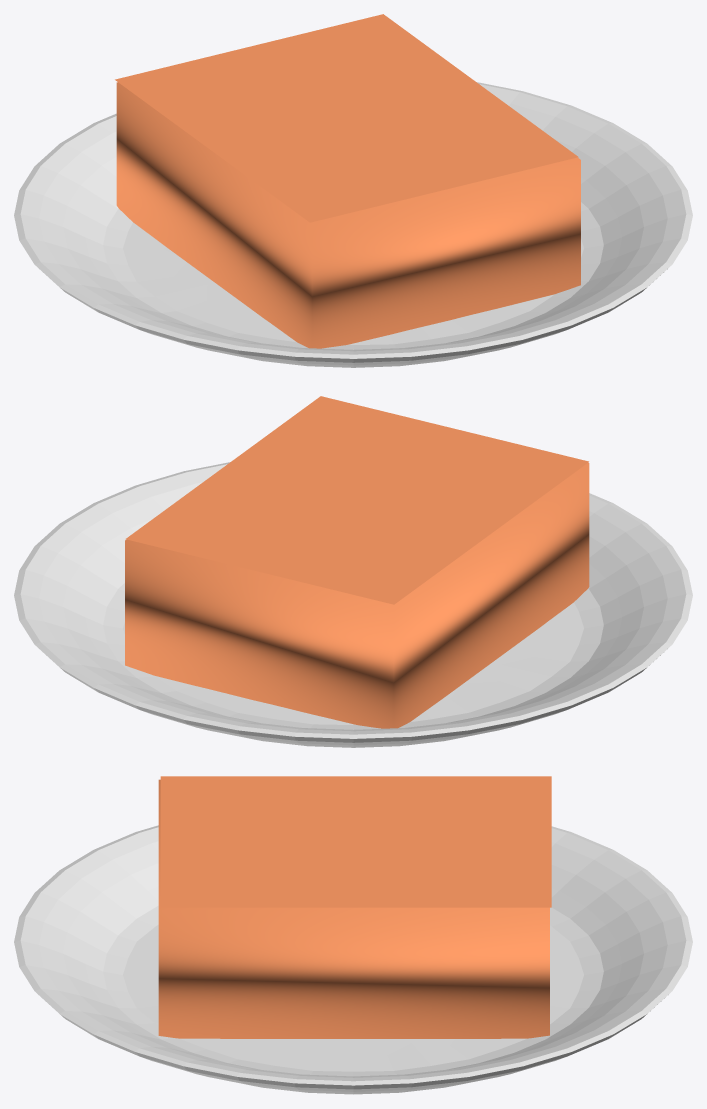
File: kue engkak ketan.fbx
3 renders of one model, top to bottom at view 1: azimuth 30°, elevation 25°; view 2: azimuth 150°, elevation 25°; view 3: azimuth 270°, elevation 25°, orthographic.
Visible parts, largest first — view 1: Cube.002, Cylinder, Cube.001; view 2: Cube.002, Cylinder, Cube.001; view 3: Cylinder, Cube.002, Cube.001.
Part boxes in pixels (left/top/right/bottom): Cube.002: left=116, top=82, right=580, bottom=348; Cylinder: left=14, top=82, right=692, bottom=367; Cube.001: left=115, top=14, right=578, bottom=222; Cube.002: left=125, top=463, right=589, bottom=728; Cylinder: left=14, top=462, right=692, bottom=747; Cube.001: left=125, top=396, right=588, bottom=604; Cylinder: left=14, top=825, right=692, bottom=1094; Cube.002: left=158, top=779, right=549, bottom=1038; Cube.001: left=160, top=776, right=551, bottom=907.
Bounding box in the file's own units: 231 × 55.66 × 231.
